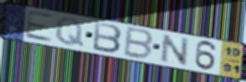6: (194, 40, 218, 72)
B: (122, 25, 156, 61), (92, 21, 124, 55)
E: (23, 9, 54, 44)
N: (160, 32, 190, 67)
Q: (55, 17, 86, 49)
